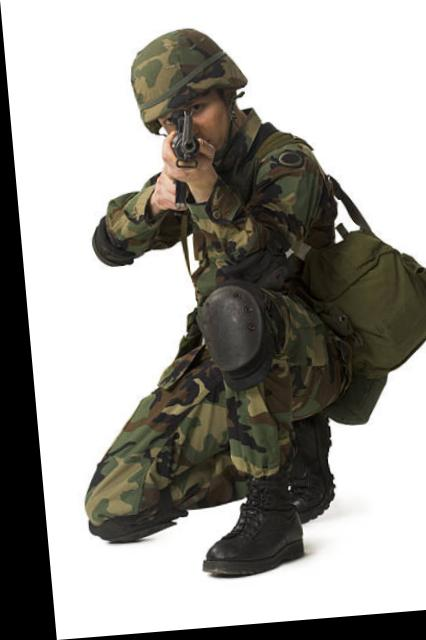other: (44, 26, 370, 578)
